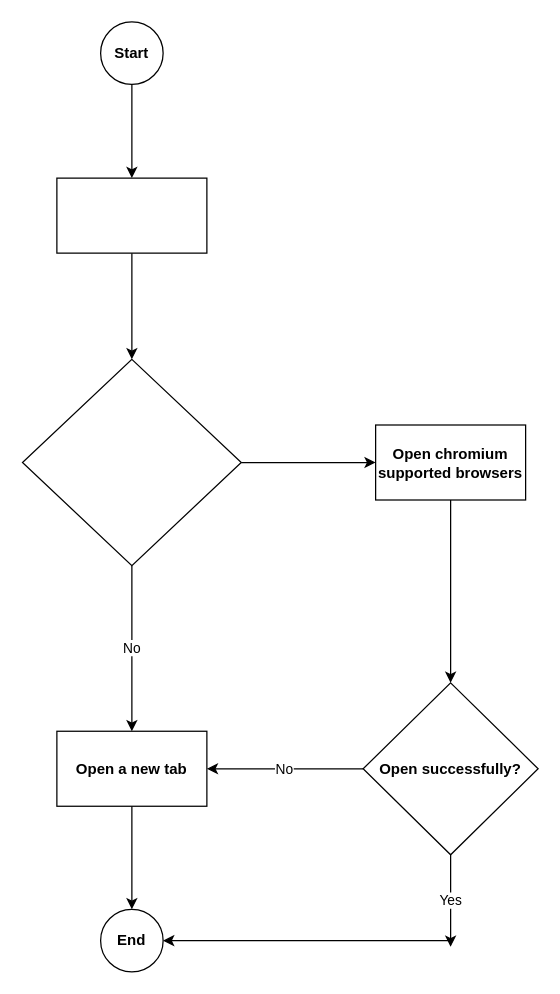
This 560x994 diagram has some shape labels left out. Here are the shapes that lost their labels. From the top down, the centre of each, then its label:
At [131,215]: "Get browser environment".
At [131,462]: "Should try open chromium with apple acript?".
